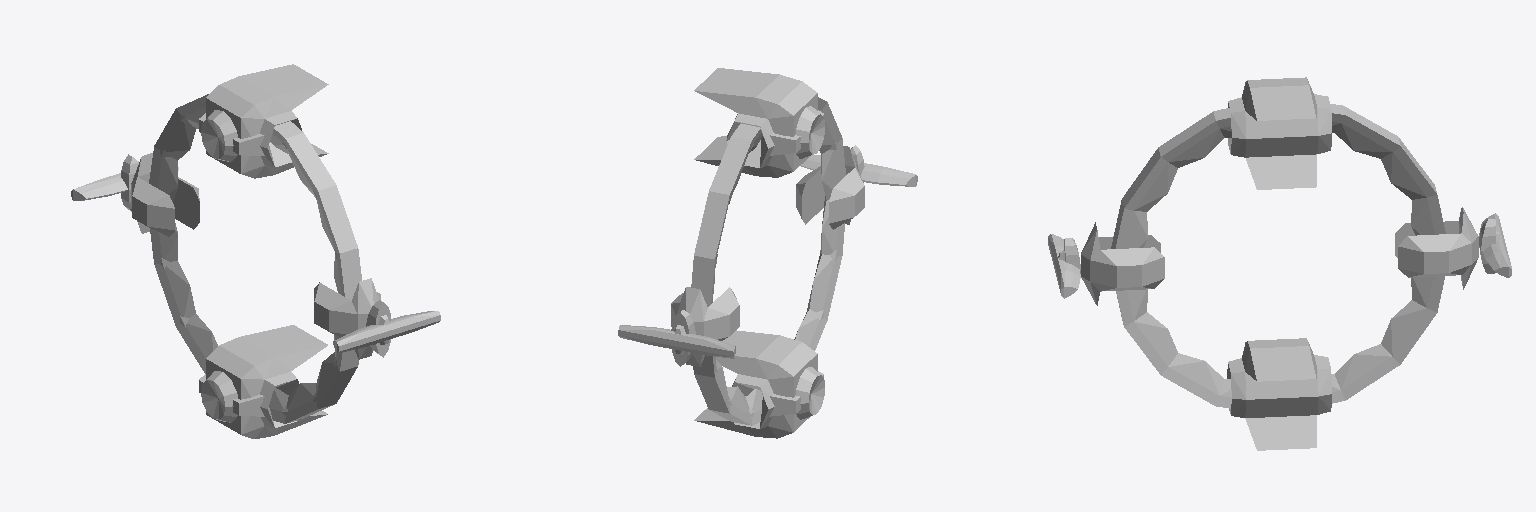
Rendered from stg300_MotGate_j3_10.obj.
The picture shows the model from 3 angles: view 1: azimuth 30°, elevation 25°; view 2: azimuth 150°, elevation 25°; view 3: azimuth 270°, elevation 25°; orthographic projection.
Parts seen in each view (by area): view 1: polygon0, polygon6, polygon7, polygon1, polygon4, polygon3, polygon5; view 2: polygon0, polygon6, polygon7, polygon2, polygon1, polygon5, polygon3; view 3: polygon0, polygon7, polygon6, polygon1, polygon3, polygon5, polygon4, polygon2.
Part boxes in pixels (bbox=[...]): polygon0: bbox=[131, 64, 380, 438]; polygon6: bbox=[149, 94, 361, 423]; polygon7: bbox=[158, 107, 340, 411]; polygon1: bbox=[132, 119, 328, 419]; polygon4: bbox=[333, 300, 440, 357]; polygon3: bbox=[74, 167, 178, 202]; polygon5: bbox=[335, 311, 434, 345]; polygon0: bbox=[671, 68, 864, 438]; polygon6: bbox=[691, 97, 845, 425]; polygon7: bbox=[712, 110, 838, 413]; polygon2: bbox=[618, 310, 735, 366]; polygon1: bbox=[730, 114, 864, 414]; polygon5: bbox=[800, 155, 915, 186]; polygon3: bbox=[620, 322, 734, 354]; polygon0: bbox=[1081, 77, 1478, 450]; polygon7: bbox=[1126, 122, 1434, 397]; polygon6: bbox=[1111, 104, 1445, 408]; polygon1: bbox=[1117, 251, 1448, 287]; polygon3: bbox=[1479, 213, 1508, 270]; polygon5: bbox=[1051, 234, 1080, 288]; polygon4: bbox=[1048, 234, 1078, 298]; polygon2: bbox=[1481, 214, 1511, 277].
Size of the model in its own units: 92.41 by 199 by 247.